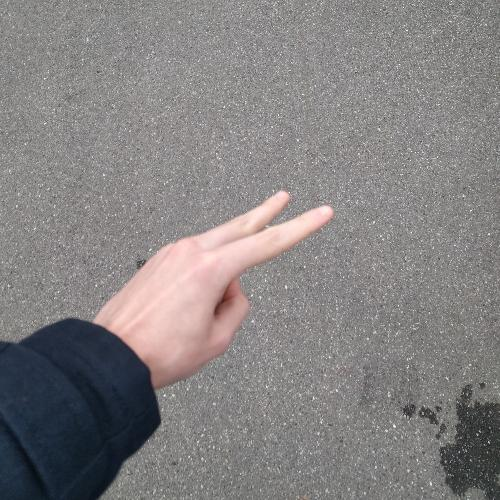scissors: (88, 185, 338, 388)
